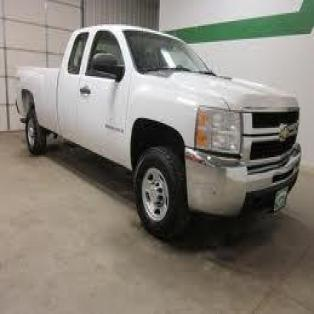Auto: (12, 20, 304, 240)
